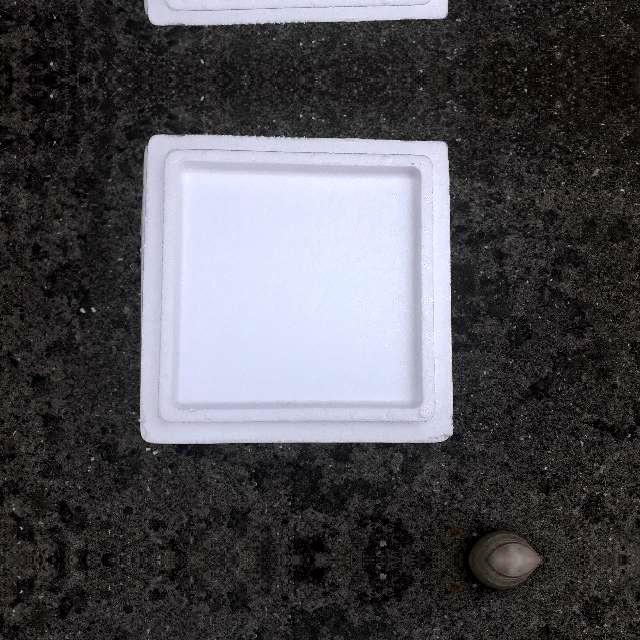Styrofoam: (139, 132, 455, 444), (140, 134, 453, 444)
